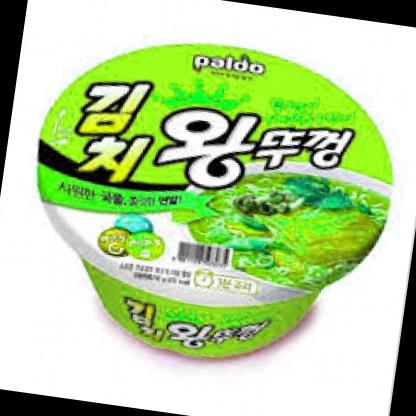Ramen: (11, 20, 416, 384)
